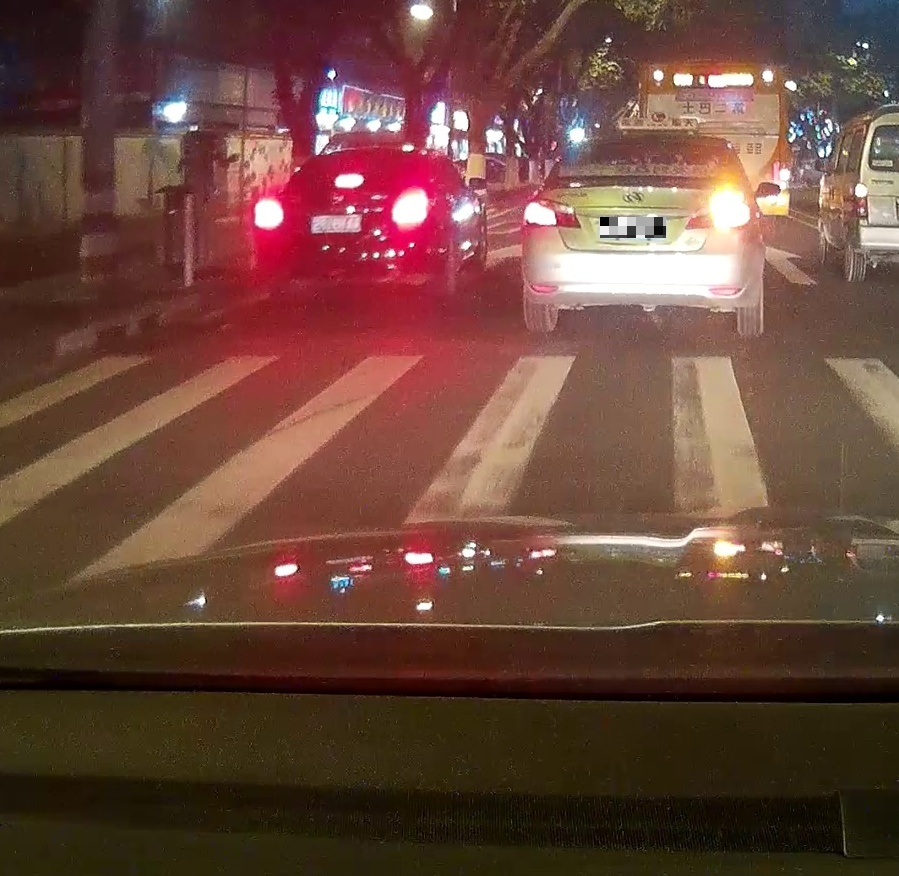L_light: (522, 196, 581, 229), (253, 198, 286, 230)
R_light: (683, 202, 751, 229)
T_light: (333, 174, 365, 189), (630, 141, 663, 148)
day-no: (391, 189, 431, 233)
night-brake: (253, 146, 447, 307)
night-right: (522, 132, 764, 341)
plate_1: (600, 217, 666, 238)
